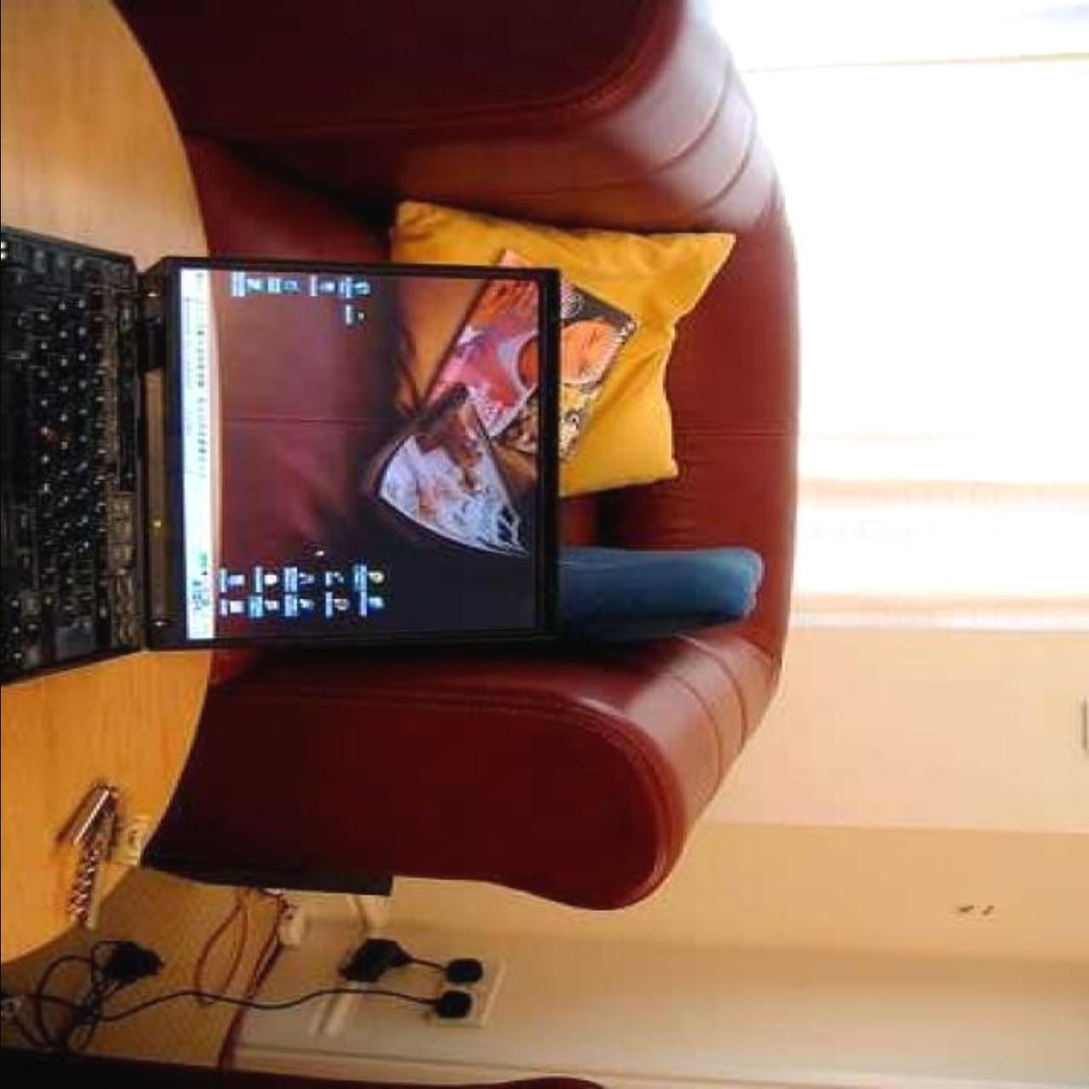laptop: (0, 263, 558, 670)
